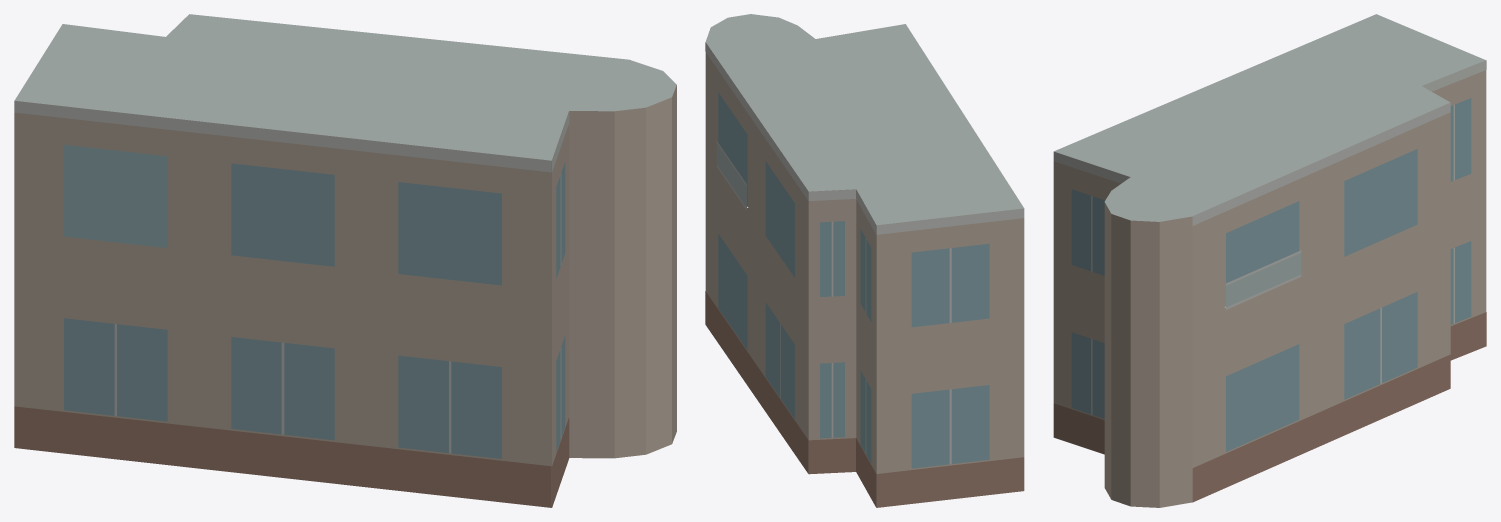
The model's file is survey-upis-32486406.glb.
3 views of the same model, side by side, from view 1: azimuth 30°, elevation 25°; view 2: azimuth 150°, elevation 25°; view 3: azimuth 270°, elevation 25° (orthographic). The views are drawn at different scales.
Parts seen in each view (by area): view 1: survey-upis-32486406.tmp; view 2: survey-upis-32486406.tmp; view 3: survey-upis-32486406.tmp.
Boxes of the visible parts, x1,y1,x2,y2 form: survey-upis-32486406.tmp: [14, 14, 676, 507]; survey-upis-32486406.tmp: [705, 14, 1024, 507]; survey-upis-32486406.tmp: [1053, 14, 1486, 507].
Size of the model in its own units: 11.23 by 7.2 by 9.88.
